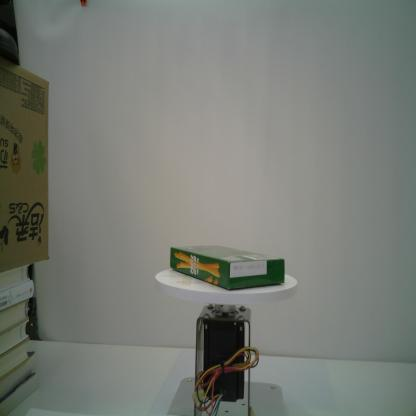Dessert: (169, 243, 286, 293)
